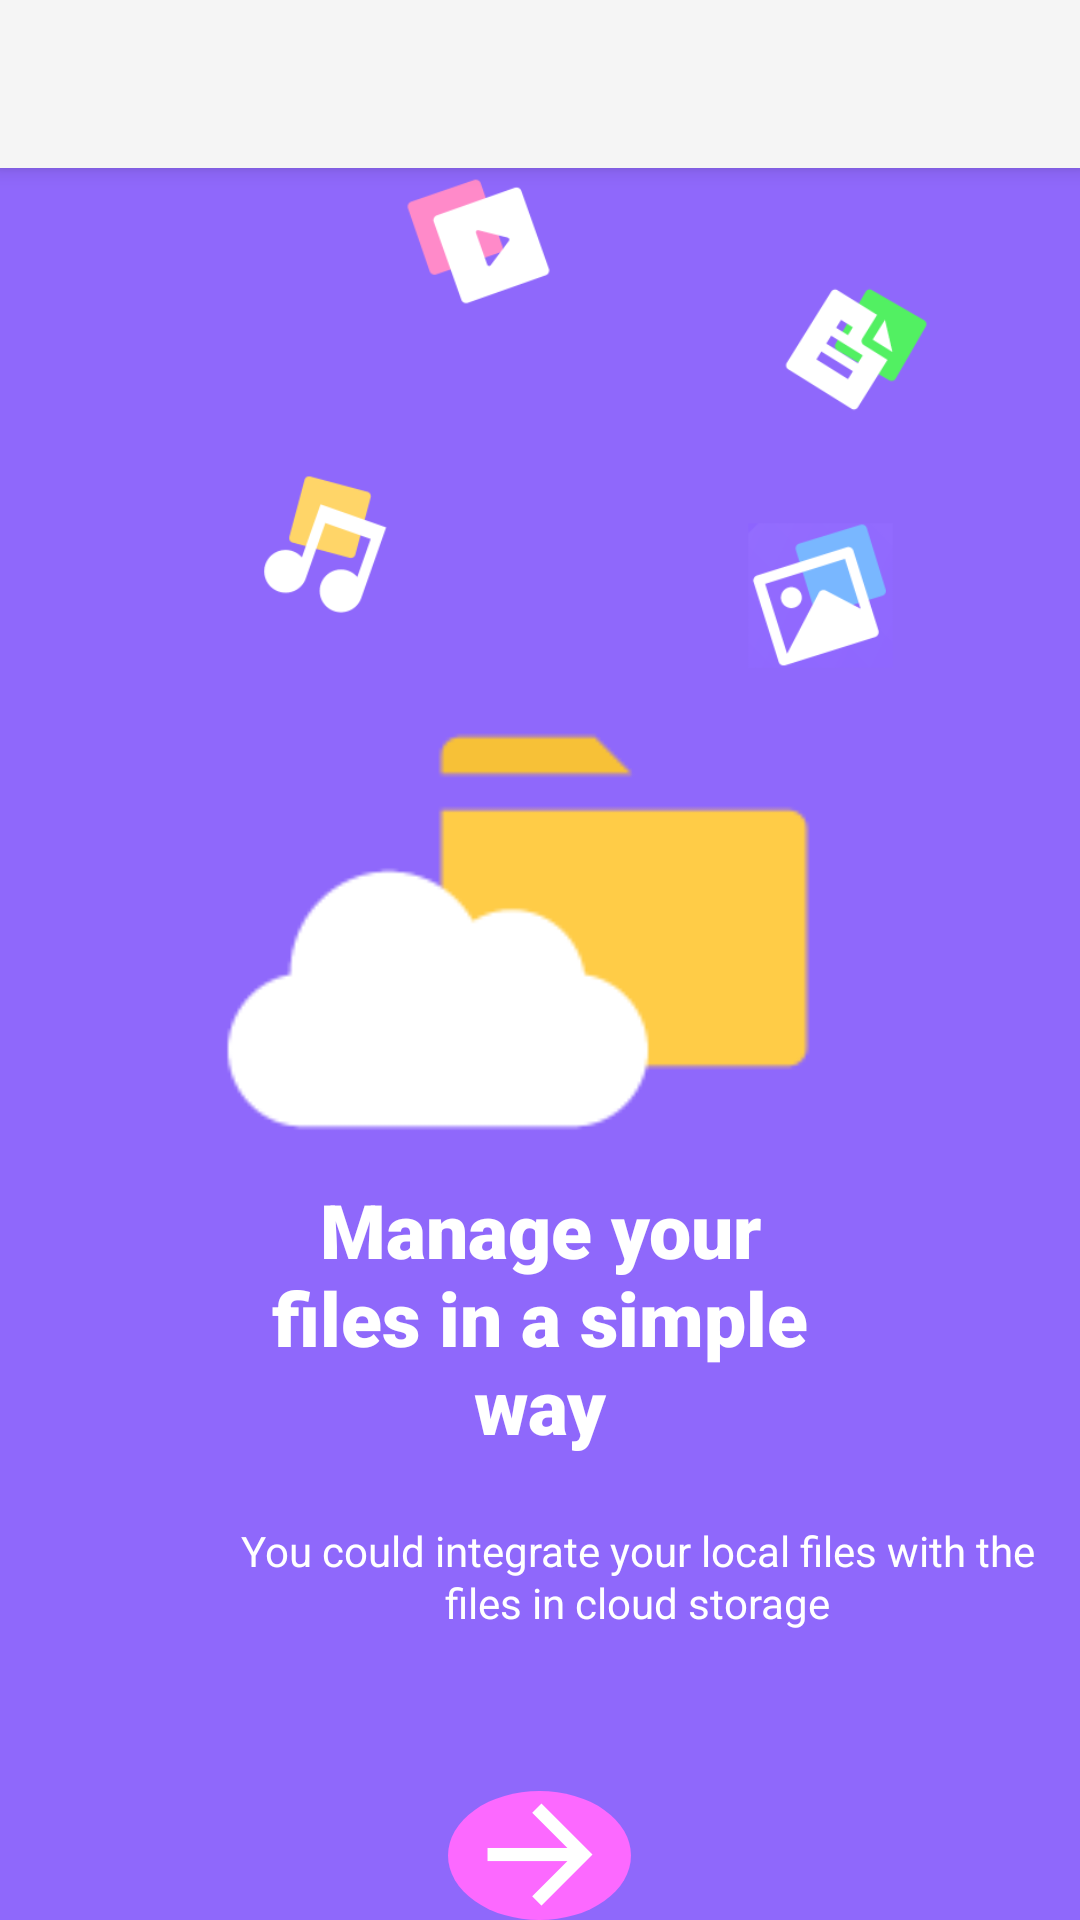

Screen size 1080x1920. Icon name, then its box in pixels as (x1, y1, x2, y2):
dochome: (785, 289, 927, 410)
musichome: (264, 476, 387, 613)
picturehome: (753, 524, 886, 666)
start: (448, 1791, 631, 1920)
videohome: (407, 179, 550, 304)
